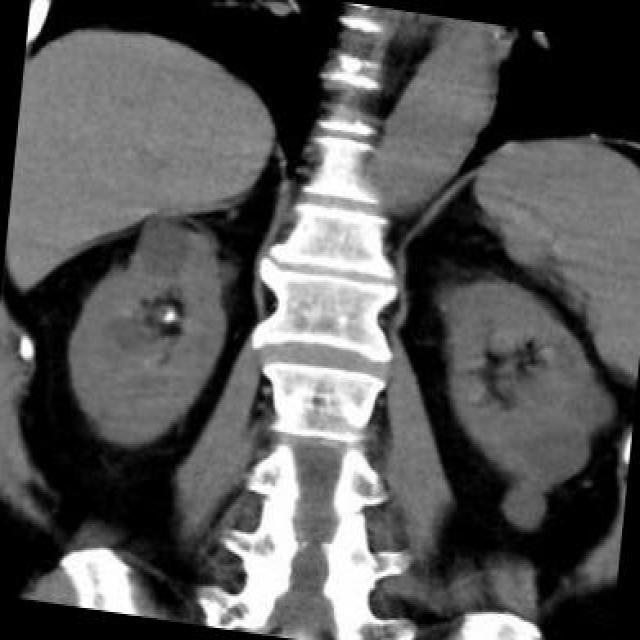Tas_Var: (160, 305, 177, 325)
